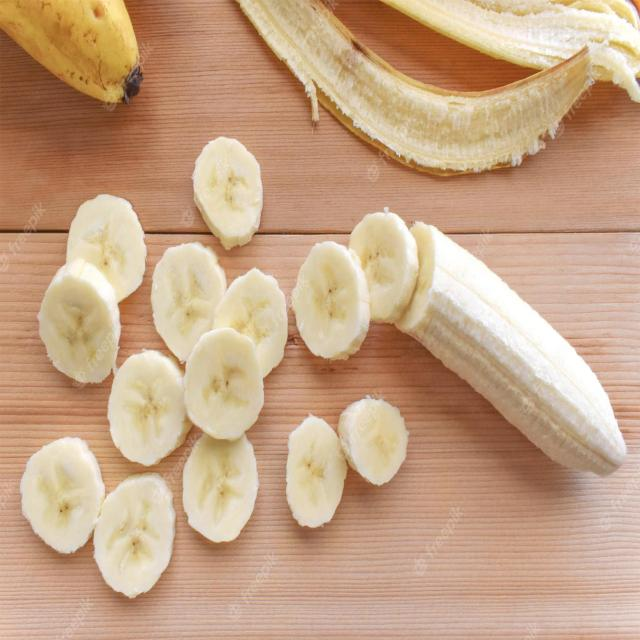Banana: (393, 219, 625, 473), (38, 258, 121, 383), (94, 473, 175, 598), (20, 437, 105, 553), (108, 350, 191, 466), (293, 241, 369, 359), (151, 243, 226, 362), (67, 194, 147, 301), (183, 434, 259, 542), (212, 268, 287, 376), (192, 137, 262, 250), (286, 415, 347, 528), (338, 396, 408, 485)
